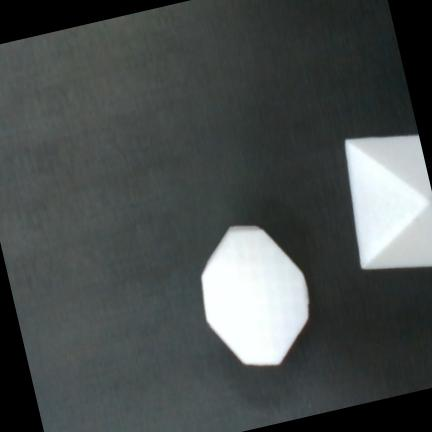Piramide: (344, 135, 432, 271)
Prisma_hexagonal: (200, 225, 310, 366)
